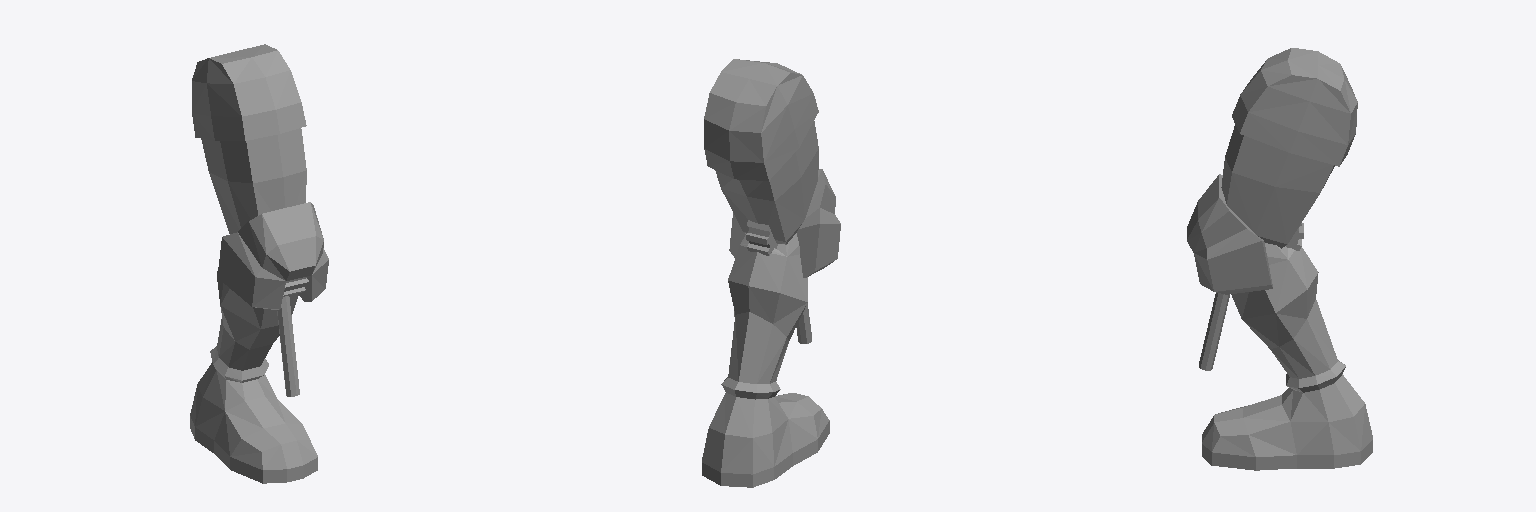
The model's file is left_leg-16_arbormon.blend.obj.
The picture shows the model from 3 angles: view 1: azimuth 30°, elevation 25°; view 2: azimuth 150°, elevation 25°; view 3: azimuth 270°, elevation 25°; orthographic projection.
Parts seen in each view (by area): view 1: left_leg-16_arbormon.blend_nifid_443-matrix_Editable_Poly-lib.02; view 2: left_leg-16_arbormon.blend_nifid_443-matrix_Editable_Poly-lib.02; view 3: left_leg-16_arbormon.blend_nifid_443-matrix_Editable_Poly-lib.02.
Boxes of the visible parts, x1,y1,x2,y2 form: left_leg-16_arbormon.blend_nifid_443-matrix_Editable_Poly-lib.02: [190, 44, 328, 483]; left_leg-16_arbormon.blend_nifid_443-matrix_Editable_Poly-lib.02: [702, 59, 840, 487]; left_leg-16_arbormon.blend_nifid_443-matrix_Editable_Poly-lib.02: [1187, 48, 1372, 470].
Bounding box in the file's own units: 0.2534 × 1.11 × 0.4777.